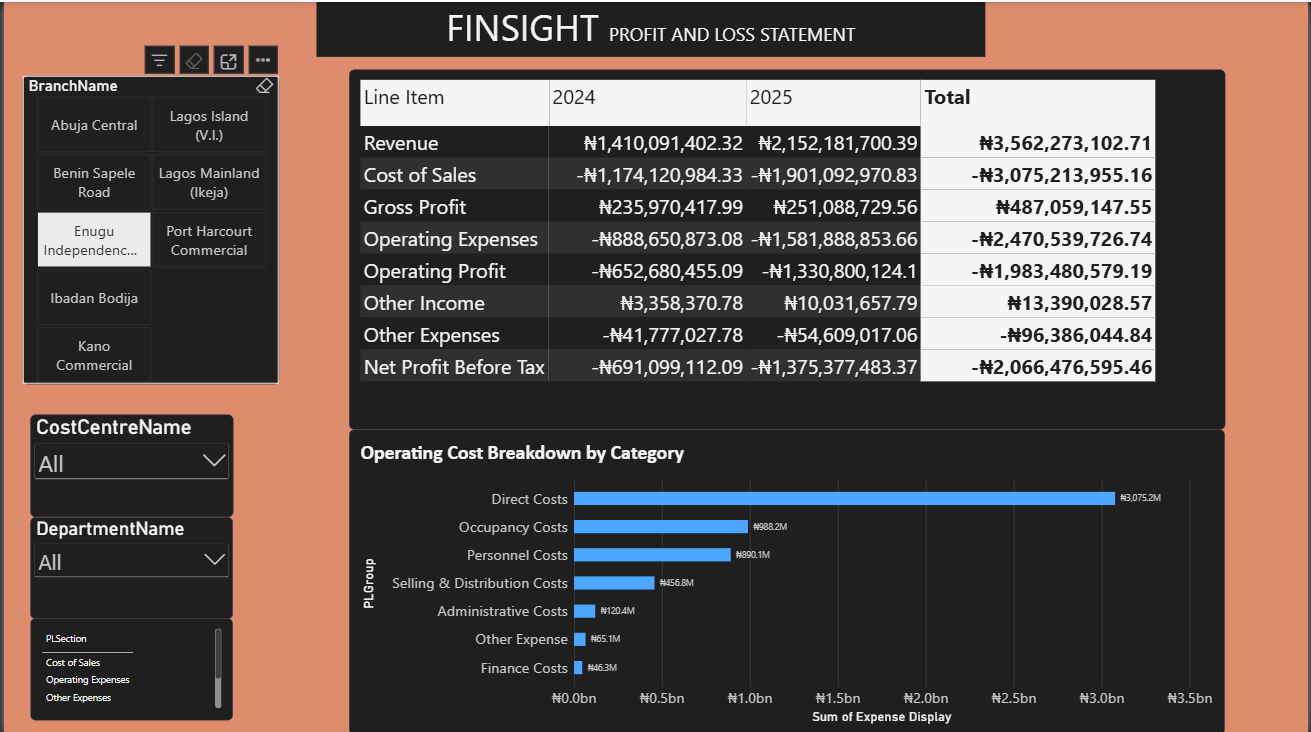

This screenshot's page, from the dashboard's own definition file:
{"tool":"powerbi","page":{"name":"P&L Statement","canvas":[1920,1080],"ordinal":1},"visuals":[{"type":"slicer","fields":{"Values":["DimBranch.BranchName"]},"box":[27,108,377.9,454.7],"z":0},{"type":"slicer","fields":{"Values":["DimCostCentre.CostCentreName"]},"box":[37.8,607.3,298.9,151.4],"z":1000},{"type":"slicer","fields":{"Values":["DimDepartment.DepartmentName"]},"box":[37.8,758.7,298.4,150.1],"z":2000},{"type":"clusteredBarChart","title":"Operating Cost Breakdown by Category","fields":{"Category":["DimAccount.PLGroup"],"Y":["Sum(FactFinancialTransactions.Expense Display)"]},"box":[508,629.5,1289.3,450.5],"z":3000},{"type":"tableEx","fields":{"Values":["DimAccount.PLSection"]},"box":[37.8,908.2,298.4,150.1],"z":4000},{"type":"pivotTable","fields":{"Columns":["Date.year"],"Rows":["PL Layout.Line Item"],"Values":["PL Layout.P&L Amount"]},"box":[508,99.4,1290.2,530.1],"z":5000},{"type":"textbox","box":[460.1,0,984.7,81],"z":6000}]}

Visuals, with their boxes on the page's 1920x1080 design canvas (x1, y1, x2, y2). These are canvas units, not pixel positions in the 1311x732 screenshot, which may show the page scaled, cropped or inside an application window:
slicer - DimBranch.BranchName: 27/108/405/563
slicer - DimCostCentre.CostCentreName: 38/607/337/759
slicer - DimDepartment.DepartmentName: 38/759/336/909
"Operating Cost Breakdown by Category" clusteredBarChart: 508/630/1797/1080
tableEx - DimAccount.PLSection: 38/908/336/1058
pivotTable - Date.year x PL Layout.Line Item: 508/99/1798/630
textbox: 460/0/1445/81
